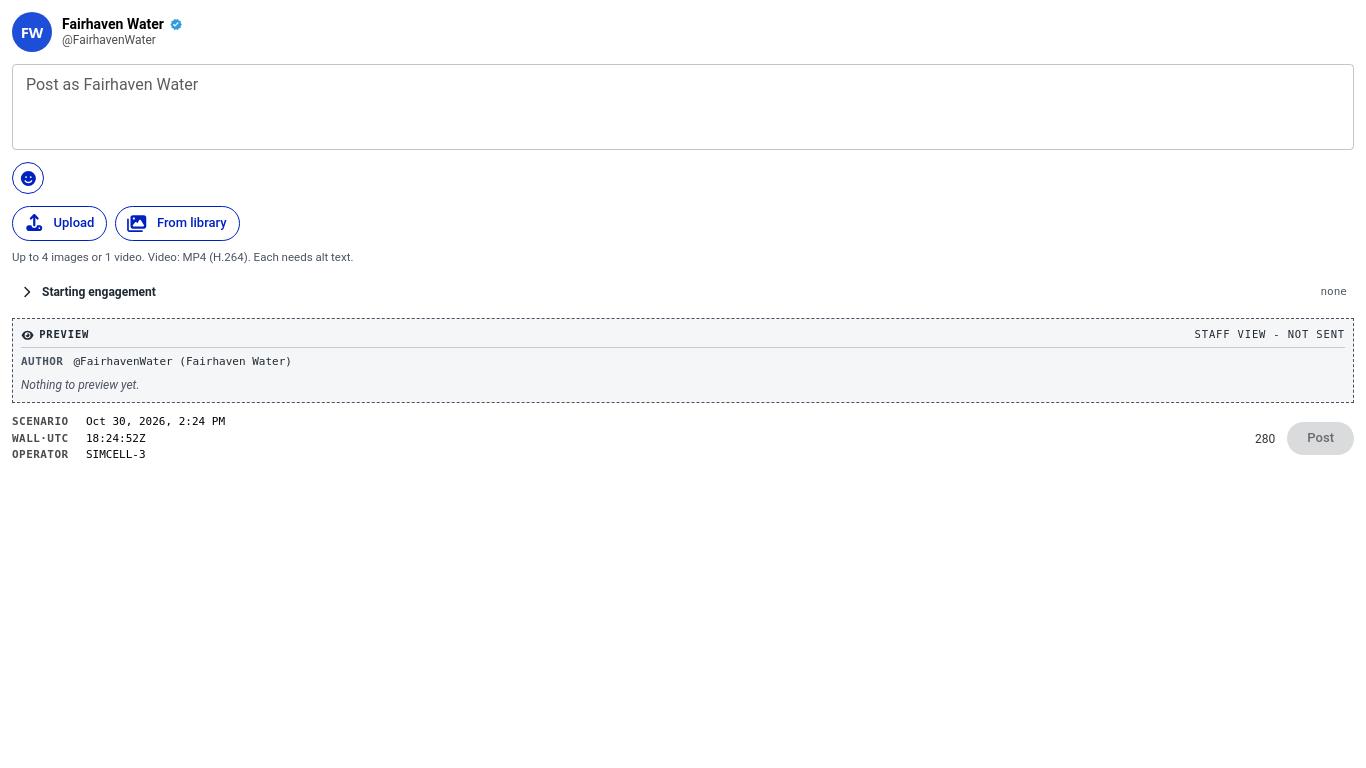
Test case: PersonaComposer (live) — a post that MAY ALREADY BE LIVE (status unknown) › focus goes to the MESSAGE (tabIndex -1), never to a button; Post is disabled and explained
The image size is (1366, 768).
In the text box labelled "Post as Fairhaven Water": x=683, y=107 [26,72,1340,142], type "Boil-water order lifted for Zones 2-4."
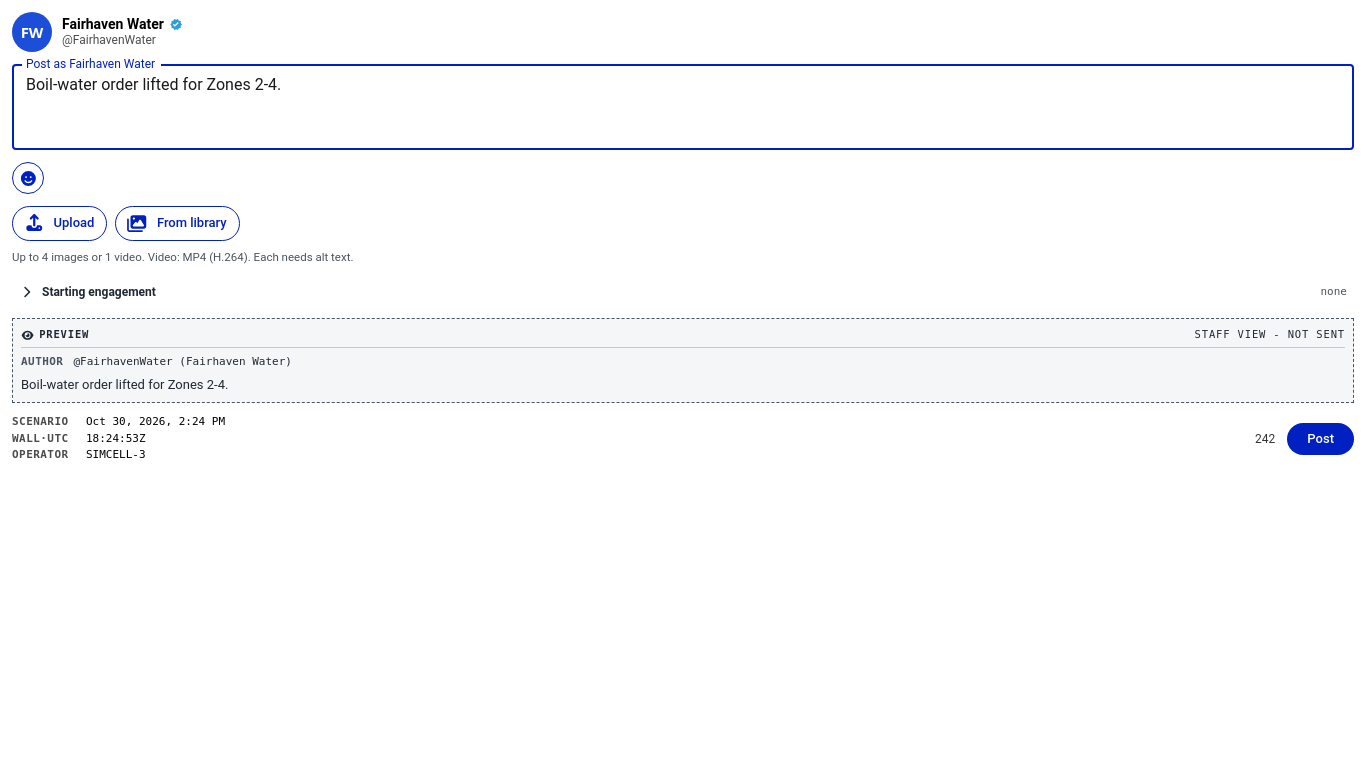
Click the button "Post": x=1321, y=439 [1287,422,1354,455]
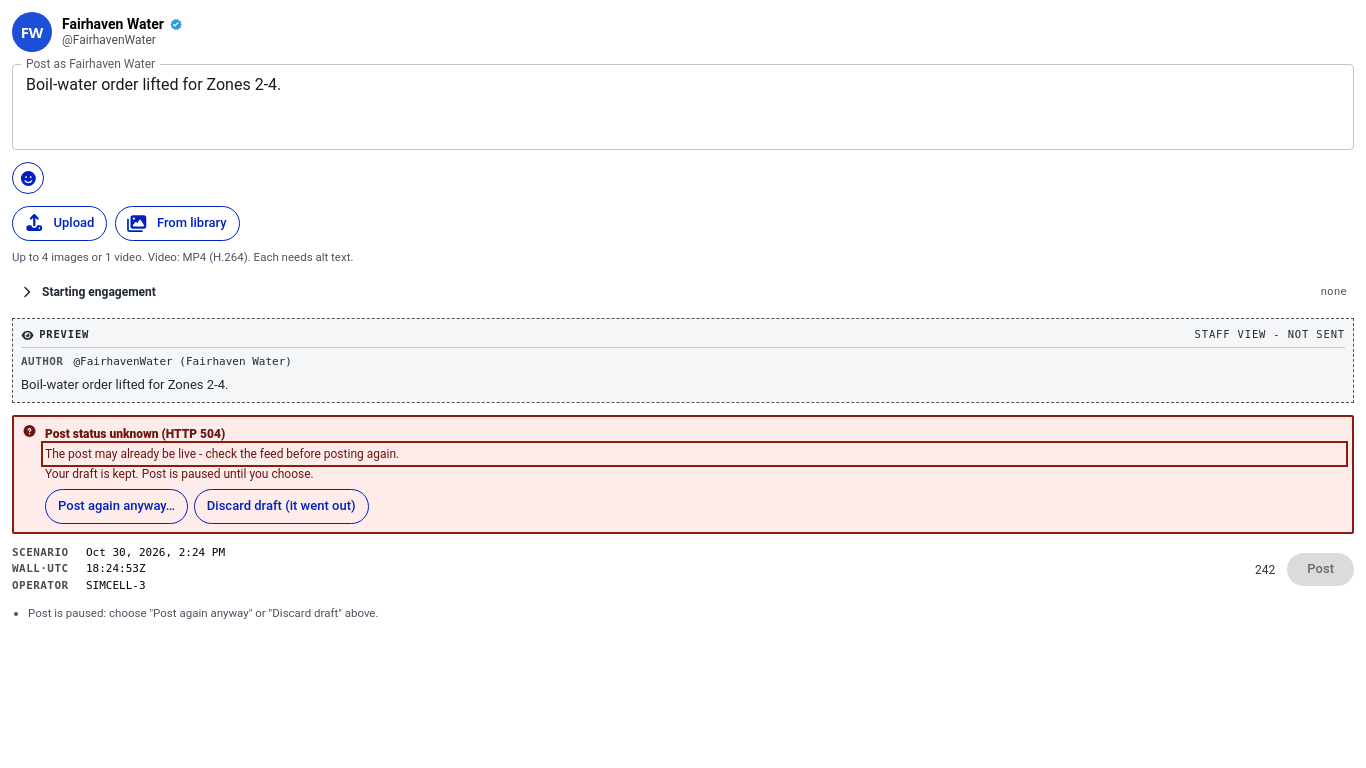
Now the message with test id "publish-unconfirmed" is shown, box [12,415,1354,534]
Now the button "Post" is disabled, box [1287,553,1354,586]
Now the list with test id "publish-blockers" shows "Post is paused", box [28,606,378,620]
